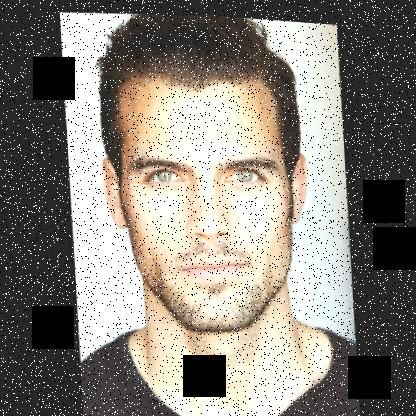Male: (93, 66, 315, 342)
